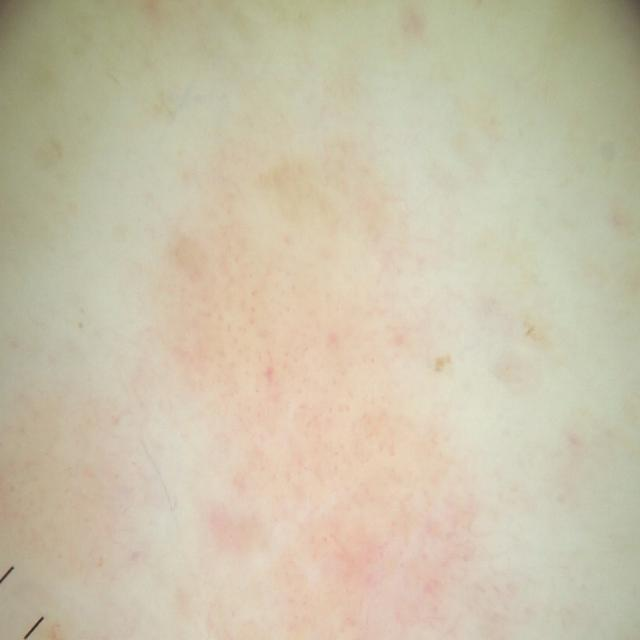Melanoma: (138, 172, 474, 640)
